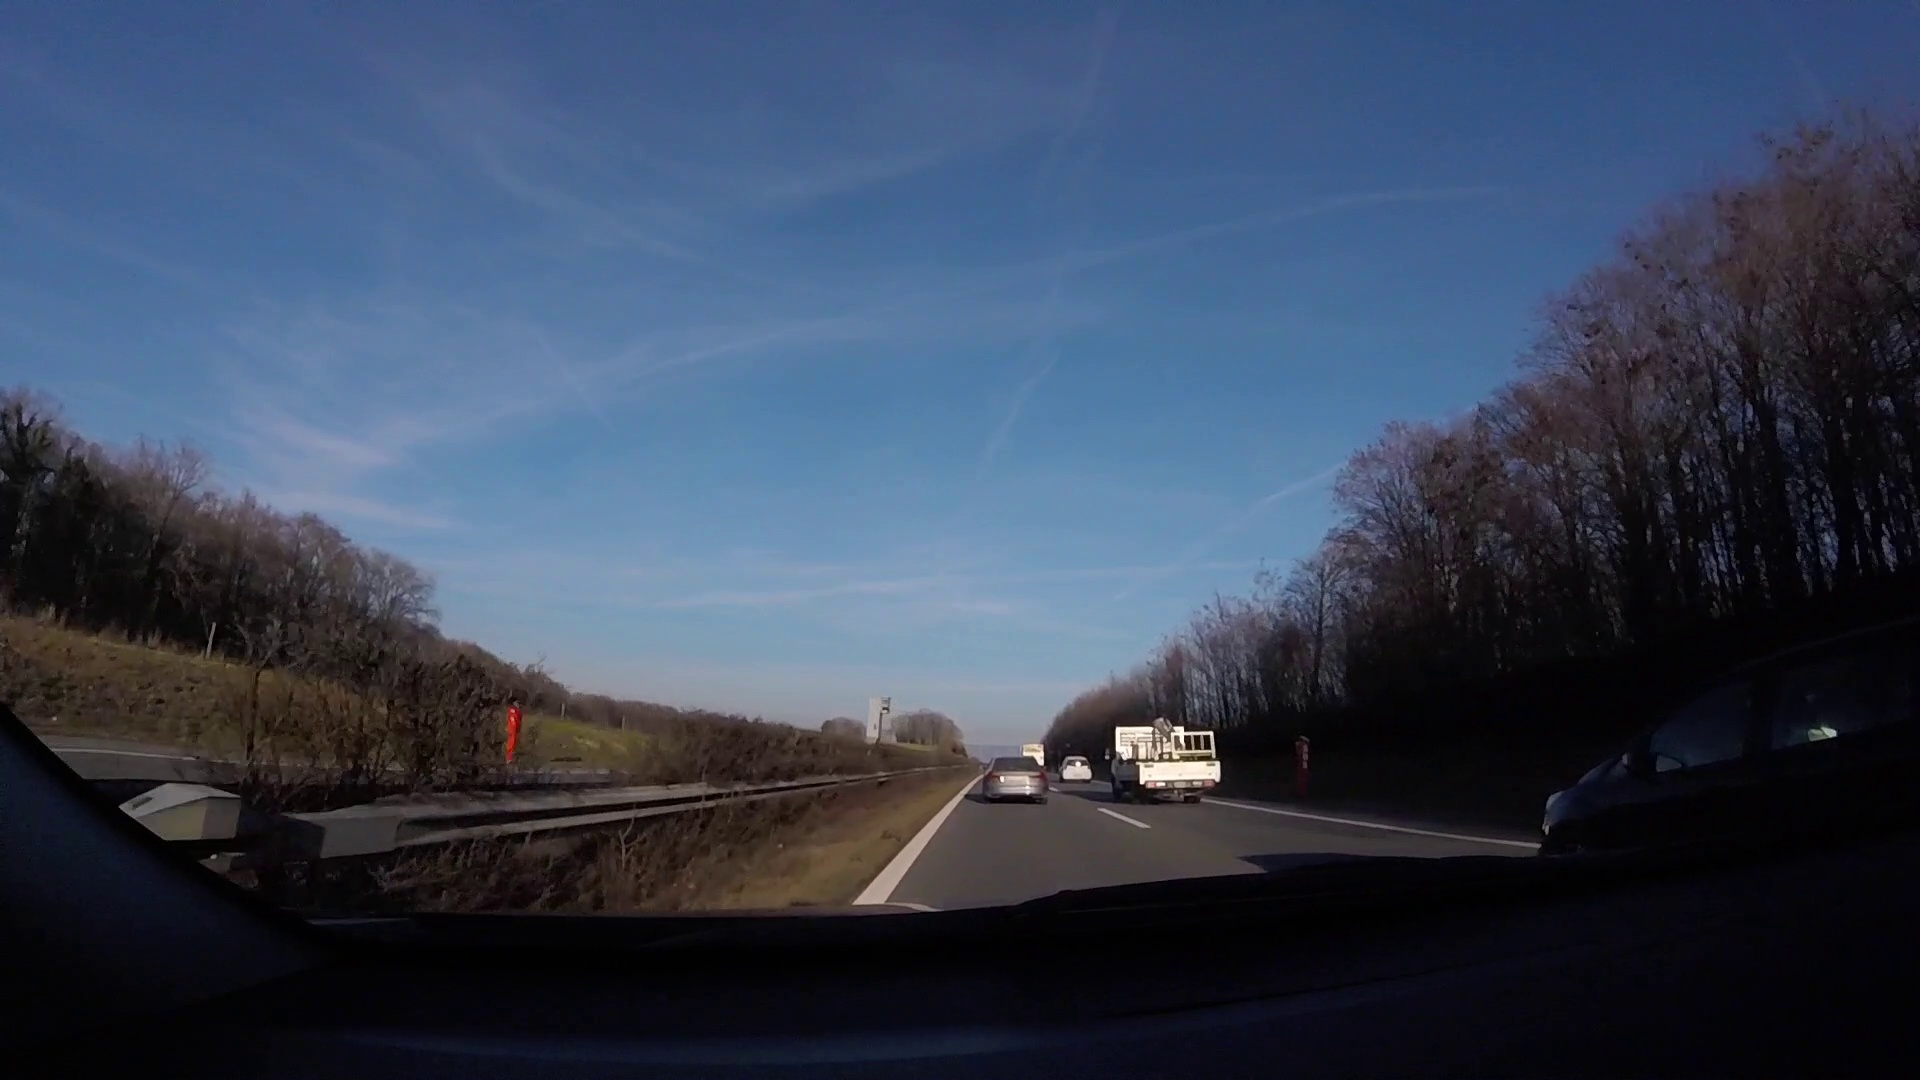radar: (865, 695, 894, 746)
